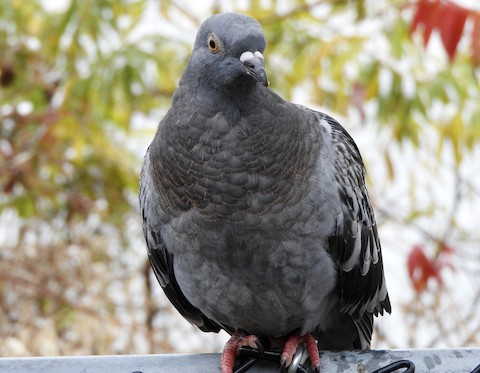pigeon: (133, 10, 394, 363)
